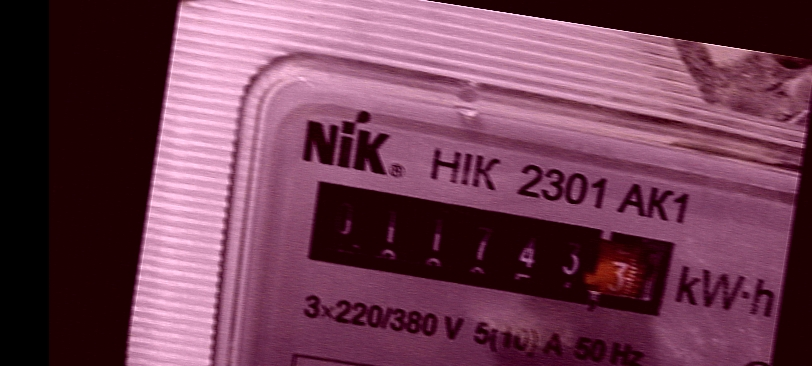0: (330, 194, 358, 236), (380, 200, 404, 244)
1: (426, 208, 448, 251)
3: (559, 232, 585, 277), (605, 252, 630, 293)
4: (514, 225, 540, 268)
7: (468, 215, 497, 262)
screen: (285, 161, 685, 326)
